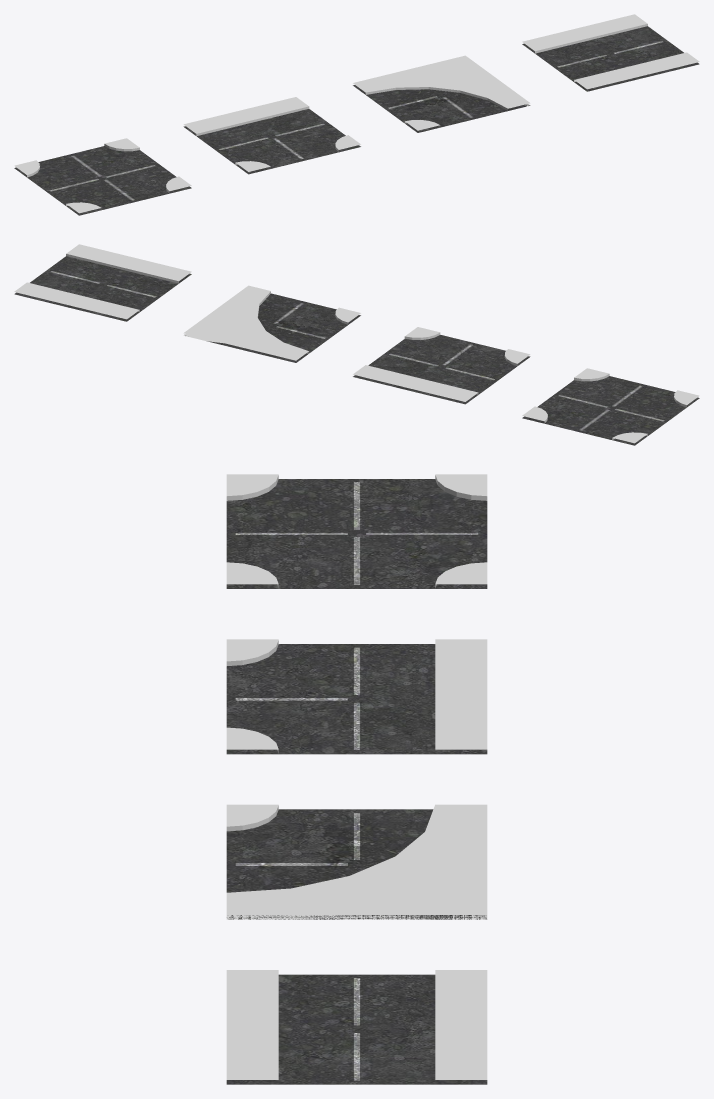
File: roadkit.fbx
The picture shows the model from 3 angles, top to bottom: view 1: azimuth 30°, elevation 25°; view 2: azimuth 150°, elevation 25°; view 3: azimuth 270°, elevation 25°; orthographic projection. The views are drawn at different scales.
Parts seen in each view (by area): view 1: Plane.002, Plane.003, Plane.001, Plane; view 2: Plane.003, Plane.002, Plane.001, Plane; view 3: Plane.002, Plane.001, Plane.003, Plane.
Boxes of the visible parts, bbox=[...] form: Plane.002: bbox=[353, 55, 530, 132]; Plane.003: bbox=[522, 14, 699, 91]; Plane.001: bbox=[183, 97, 360, 174]; Plane: bbox=[14, 138, 191, 215]; Plane.003: bbox=[14, 244, 191, 321]; Plane.002: bbox=[183, 285, 360, 362]; Plane.001: bbox=[353, 327, 530, 404]; Plane: bbox=[522, 368, 699, 445]; Plane.002: bbox=[226, 804, 487, 919]; Plane.001: bbox=[226, 639, 487, 754]; Plane.003: bbox=[226, 970, 487, 1084]; Plane: bbox=[226, 474, 487, 588].
Size of the model in its own units: 5500 by 20 by 1000.
